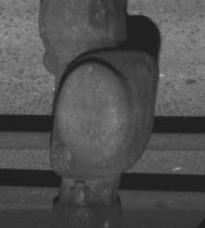Bolt: (51, 146, 75, 176), (129, 58, 151, 85)
